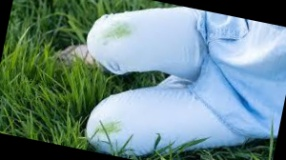earth: (104, 23, 134, 41), (98, 119, 120, 136)
